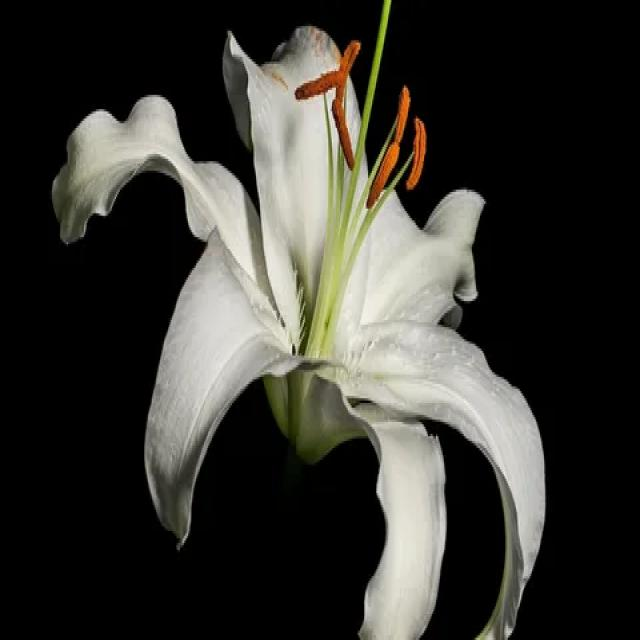lily: (46, 0, 560, 640)
